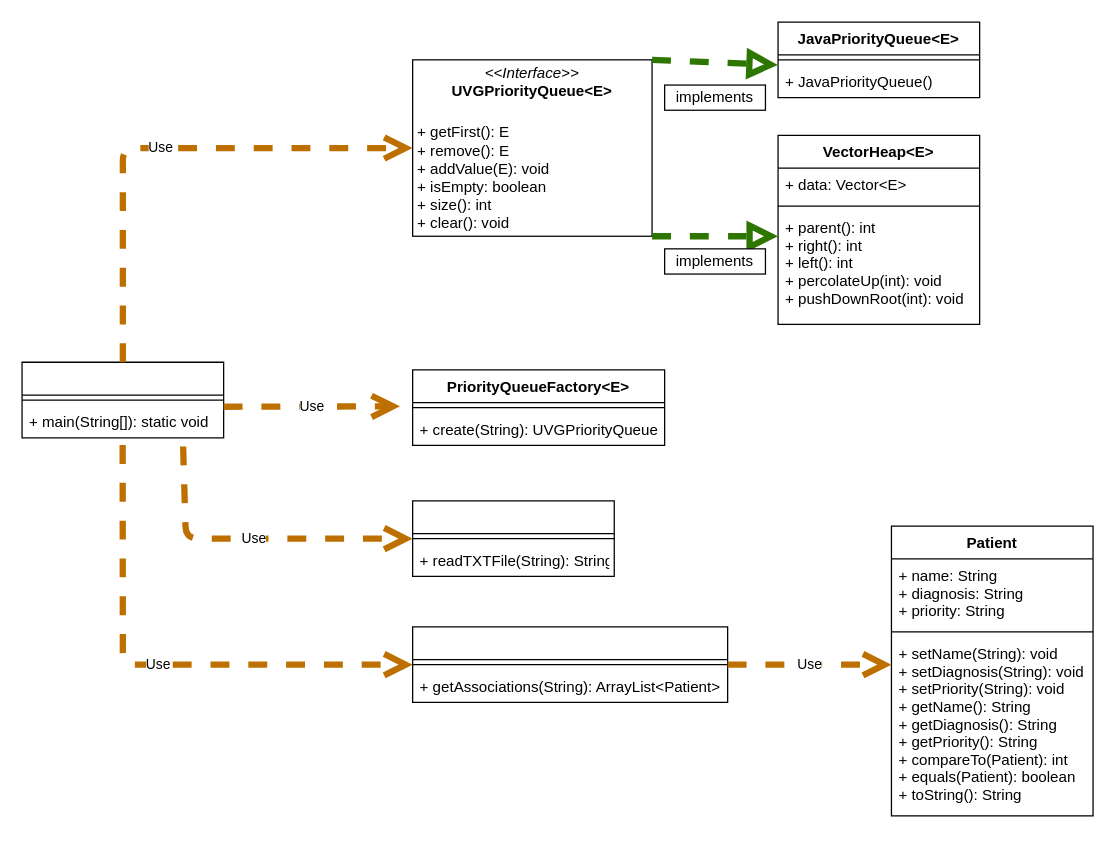
Some shapes in this 1115 by 842 pixel diagram are drawn without their labels. Here are the shapes that lost their labels. From the top down, the box of each, then its label:
(21, 361, 224, 438): App
(411, 500, 614, 576): FileManager
(411, 626, 728, 702): Tokenizer
